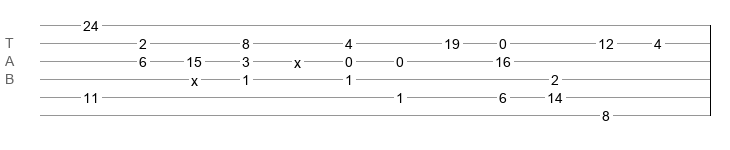0: (345, 54, 353, 64), (396, 54, 404, 64), (499, 36, 507, 46)
1: (242, 72, 250, 82), (345, 72, 353, 82), (396, 90, 404, 100)
11: (83, 90, 99, 100)
12: (598, 36, 614, 46)
14: (547, 90, 563, 100)
15: (186, 54, 202, 64)
16: (495, 54, 511, 64)
19: (444, 36, 460, 46)
2: (139, 36, 147, 46), (551, 72, 559, 82)
24: (83, 18, 99, 28)
3: (242, 54, 250, 64)
4: (345, 36, 353, 46), (654, 36, 662, 46)
6: (139, 54, 147, 64), (499, 90, 507, 100)
8: (242, 36, 250, 46), (602, 108, 610, 118)
x: (191, 73, 198, 81), (294, 55, 301, 63)
